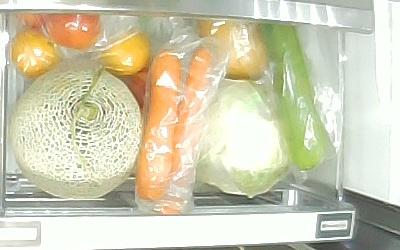cabbage: (191, 81, 291, 197)
carrot_vinyl: (159, 47, 214, 216), (134, 51, 181, 202)
melon: (9, 63, 143, 199)
pear_vinyl: (197, 20, 269, 81)
prune_vinyl: (44, 13, 102, 51), (16, 13, 50, 33)
tangerine_vinyl: (101, 27, 151, 75), (11, 30, 59, 79)
zucchini_vinyl: (256, 22, 330, 171)
